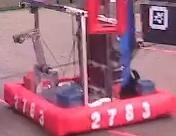red_number: (88, 98, 154, 132)
